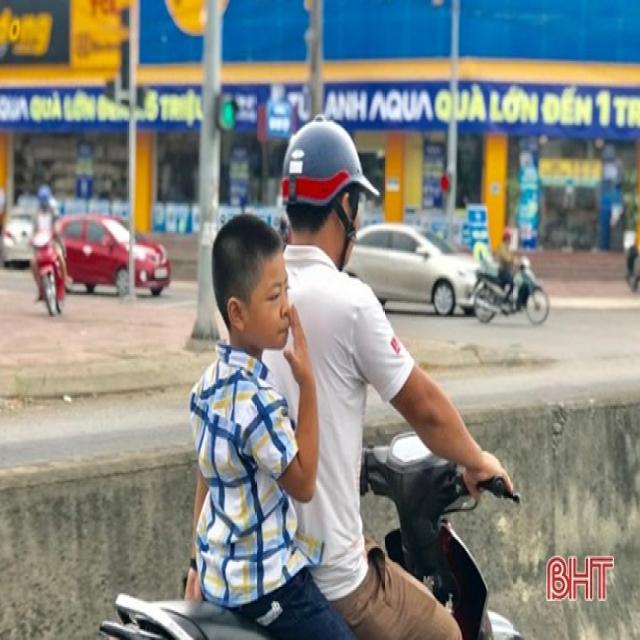helmet: (281, 114, 381, 207)
no_helmet: (208, 208, 294, 362)
